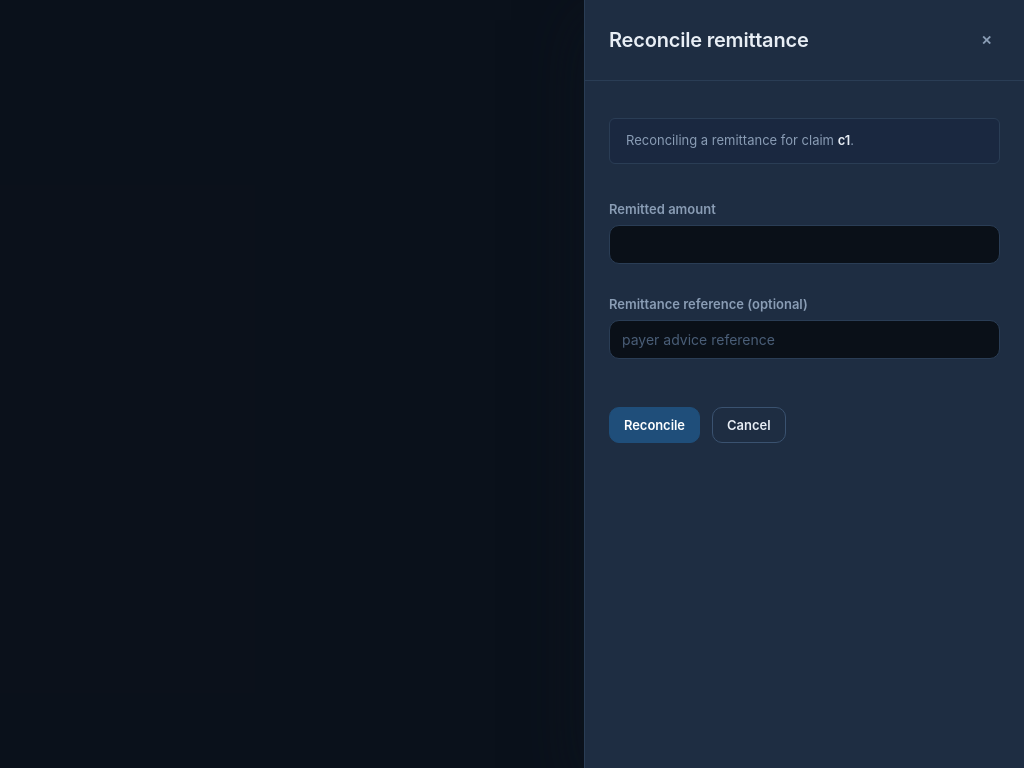
Test: ReconcileRemittance › 409 -> non-disclosing conflict banner
The width and height of the screenshot is (1024, 768).
Type "100.00" into the field labelled "Remitted amount" at (804, 244), box top-left (609, 225), bottom-right (1000, 264)
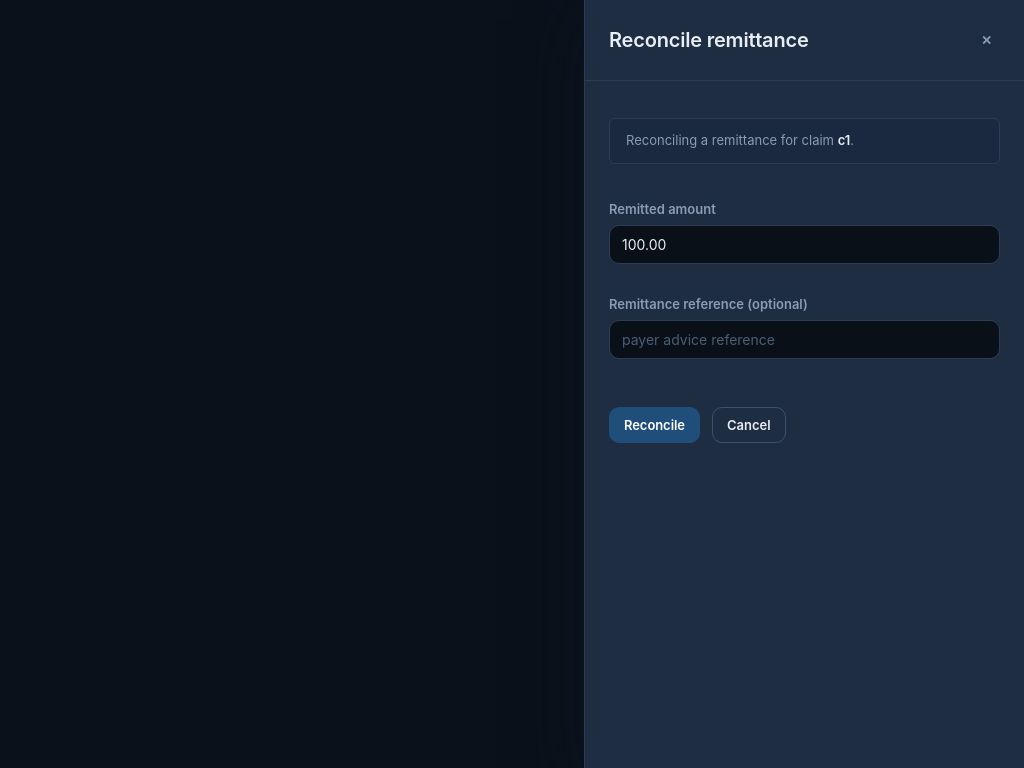
Click the button "Reconcile" at (654, 425), box top-left (609, 407), bottom-right (700, 443)
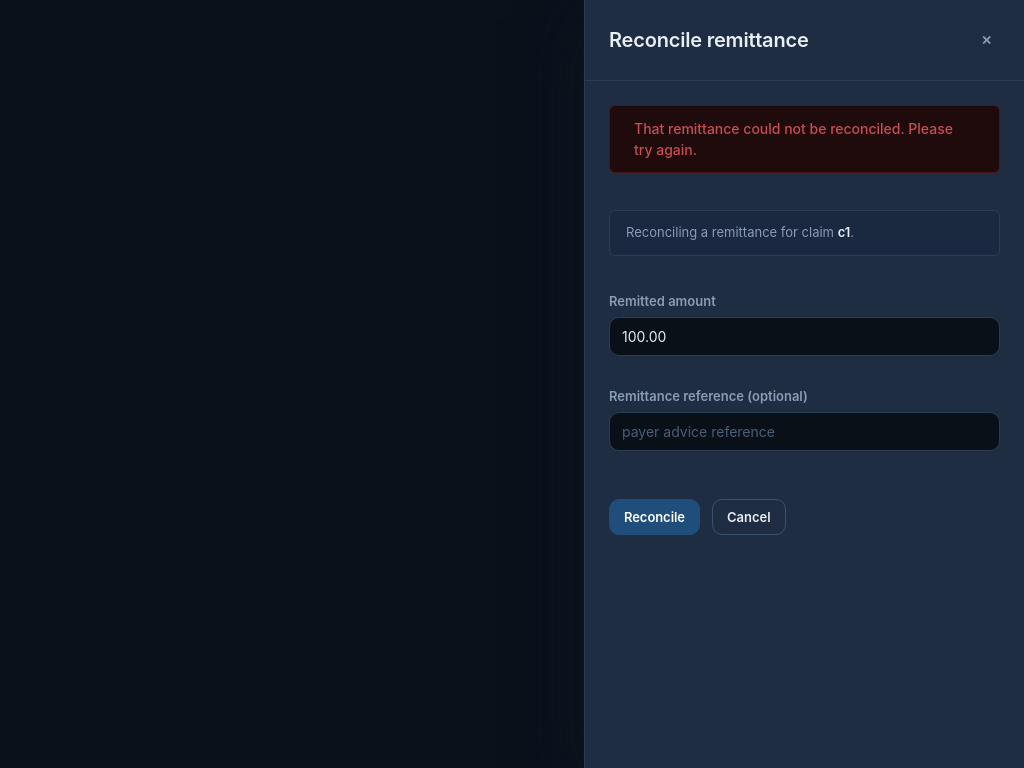
Expected: the message "That remittance could not be reconciled. Please try again." is shown, top-left (609, 105), bottom-right (1000, 173)
